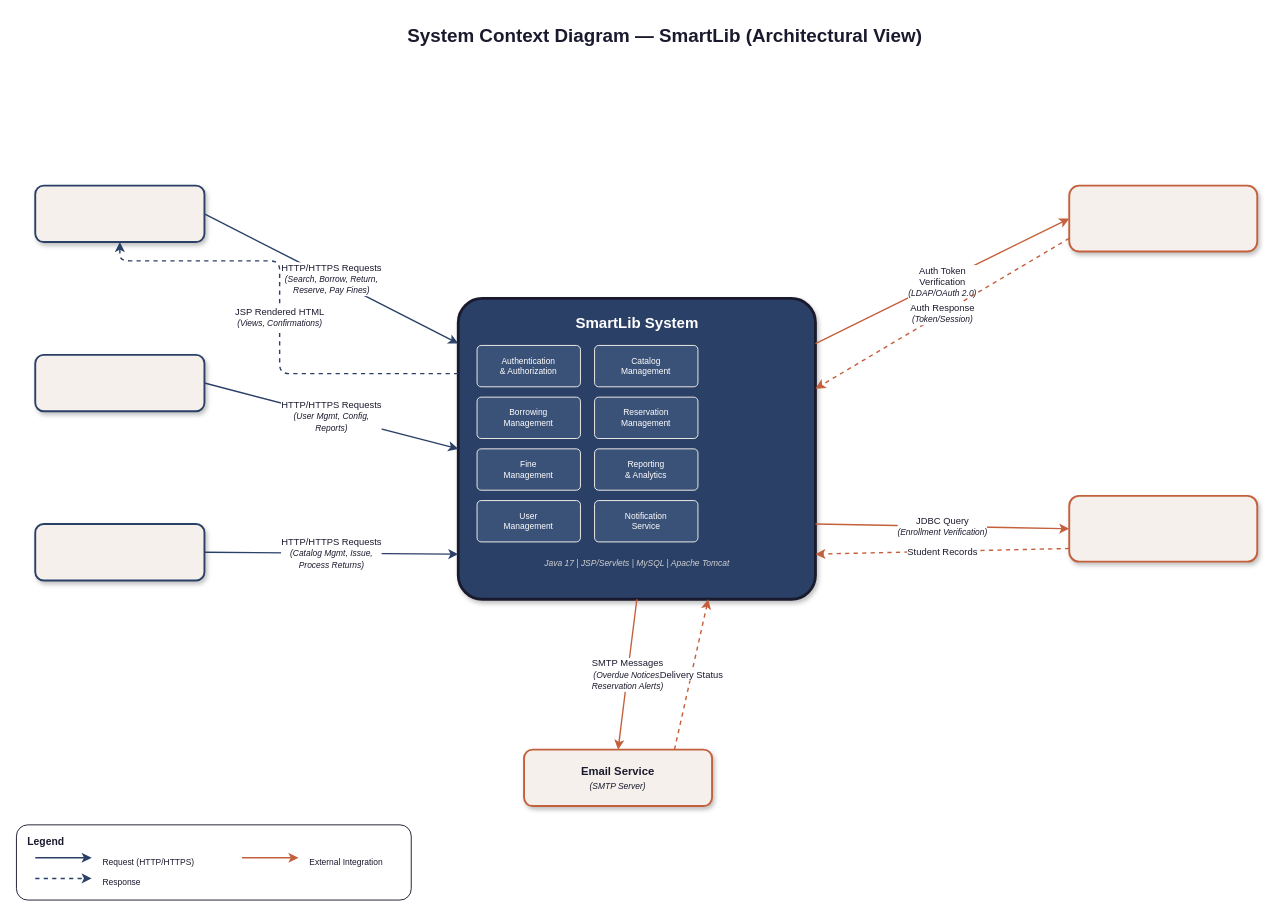
Image size: 1280x917. Some labels were removed from this diagram. Each missing label, with the centre of its shape:
"Admin (Web Browser Client)" belongs at [120,384].
"Librarian (Web Browser Client)" belongs at [120,553].
"Student (Web Browser Client)" belongs at [120,214].
"University SSO System (External Auth Provider)" belongs at [1163,219].
"University Student Database (External MySQL/Oracle DB)" belongs at [1163,530].
